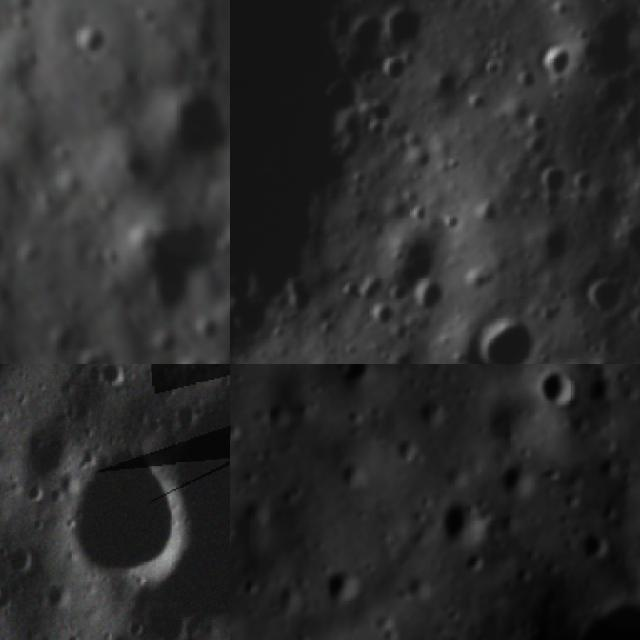crater: (57, 425, 186, 601), (121, 200, 230, 300), (377, 219, 459, 304), (158, 78, 230, 169), (469, 312, 549, 364), (571, 585, 640, 640), (436, 490, 494, 554), (377, 2, 442, 56), (522, 223, 572, 280), (318, 563, 372, 612), (534, 367, 584, 419), (317, 68, 363, 123), (535, 38, 581, 88), (576, 280, 626, 325), (76, 14, 120, 64), (494, 454, 540, 499), (585, 180, 628, 228), (466, 192, 511, 237), (534, 160, 582, 202), (279, 277, 317, 328), (408, 276, 452, 318), (606, 214, 640, 267), (573, 525, 617, 565), (3, 539, 37, 585), (520, 126, 560, 165), (93, 364, 135, 395), (378, 58, 412, 92), (366, 302, 398, 336), (341, 364, 376, 391), (522, 109, 556, 136), (336, 276, 363, 309), (480, 57, 511, 83), (94, 628, 143, 640), (626, 302, 640, 337), (230, 514, 241, 557)
